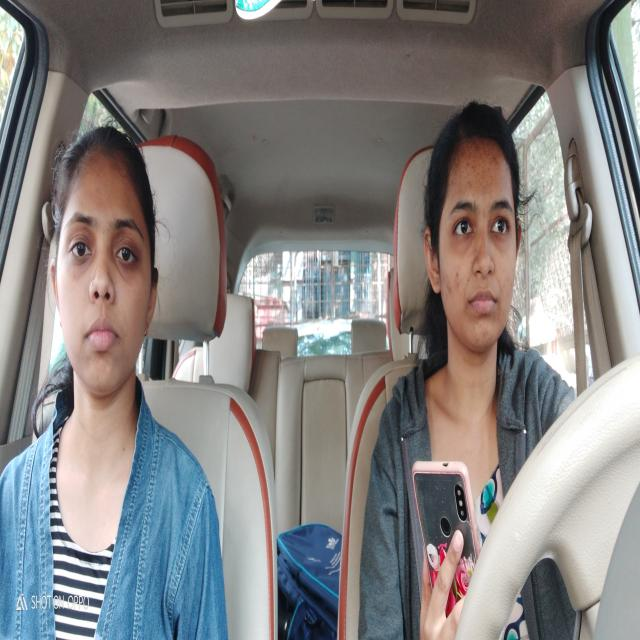mobile: (411, 440, 479, 629)
person: (50, 121, 160, 428), (422, 96, 524, 388)
